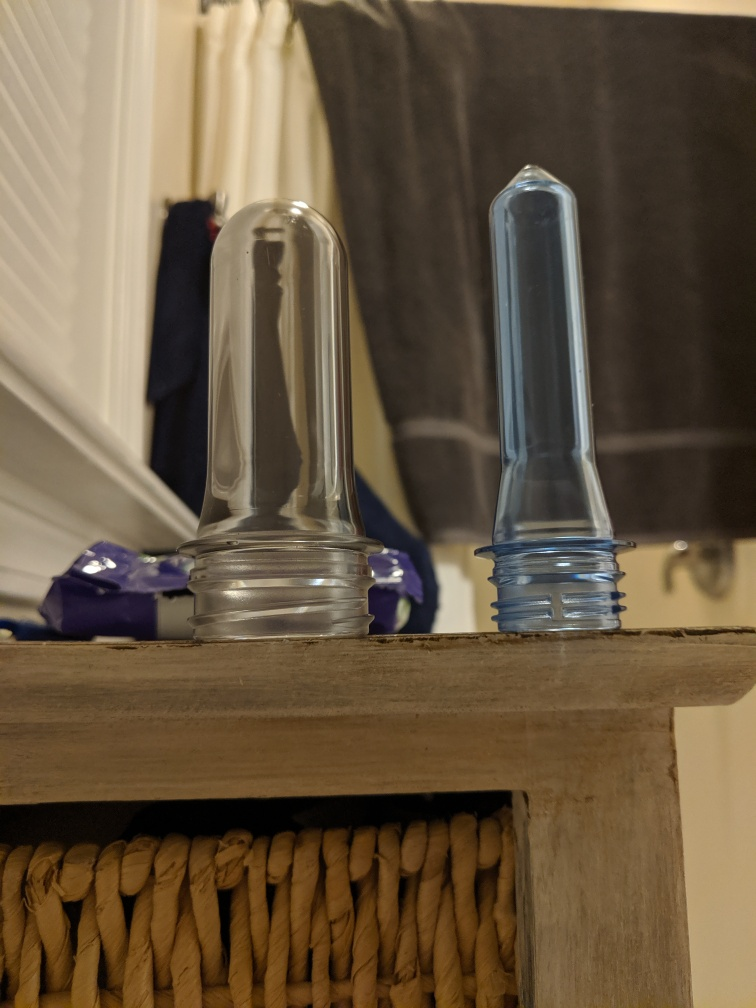preform: (167, 189, 390, 658), (468, 158, 645, 648)
